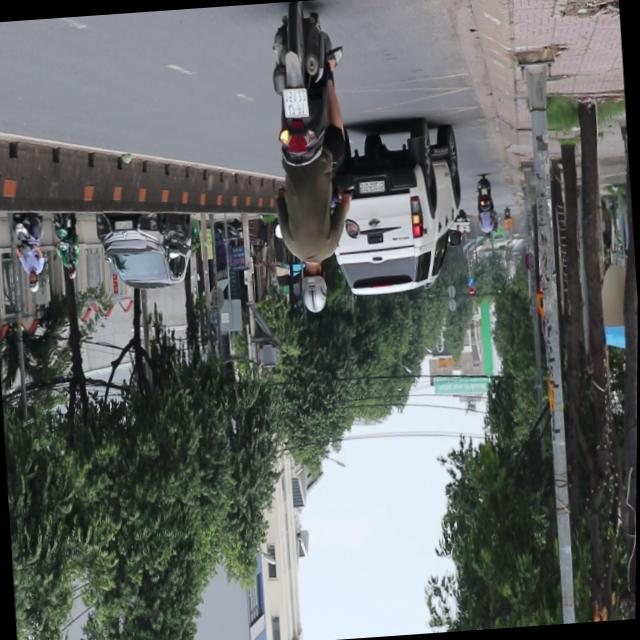helmet: (299, 264, 330, 314)
licenseplate: (258, 0, 364, 318)
nohelmet: (282, 88, 308, 120)
